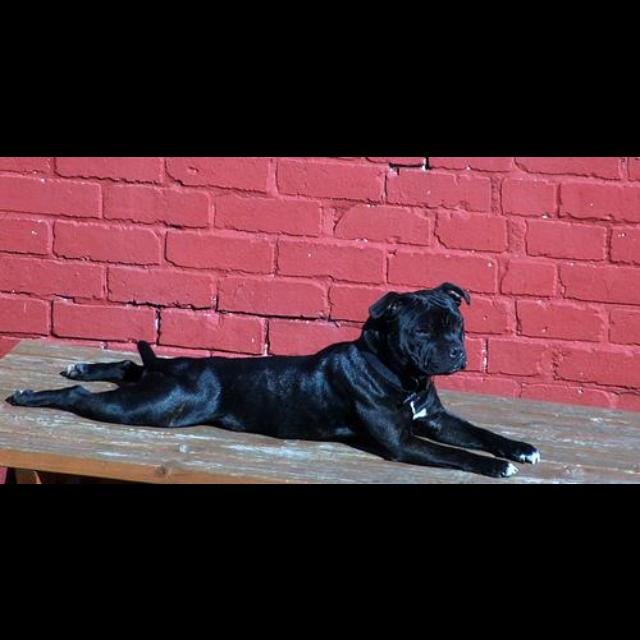staffford: (5, 280, 541, 478)
